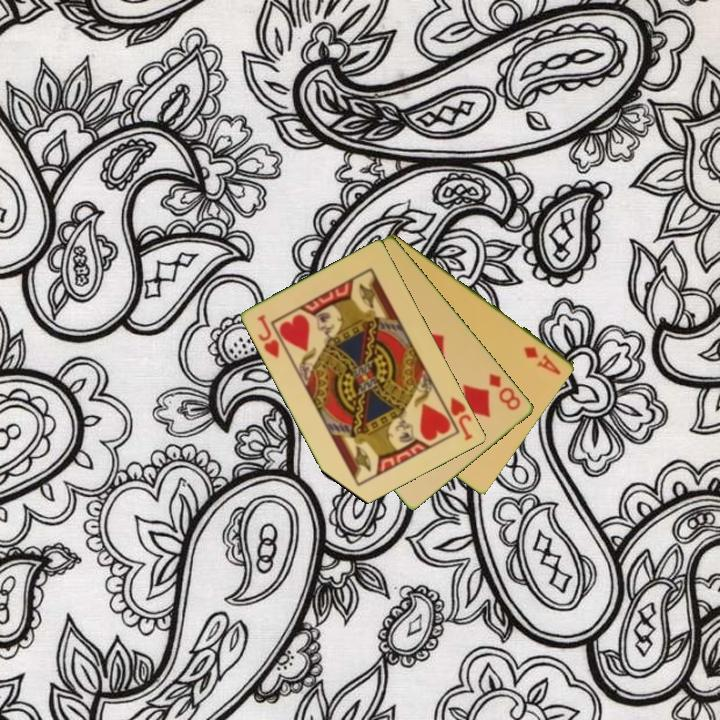8d: (486, 370, 524, 413)
Ad: (521, 343, 564, 378)
Jh: (438, 394, 476, 444), (254, 311, 283, 361)
